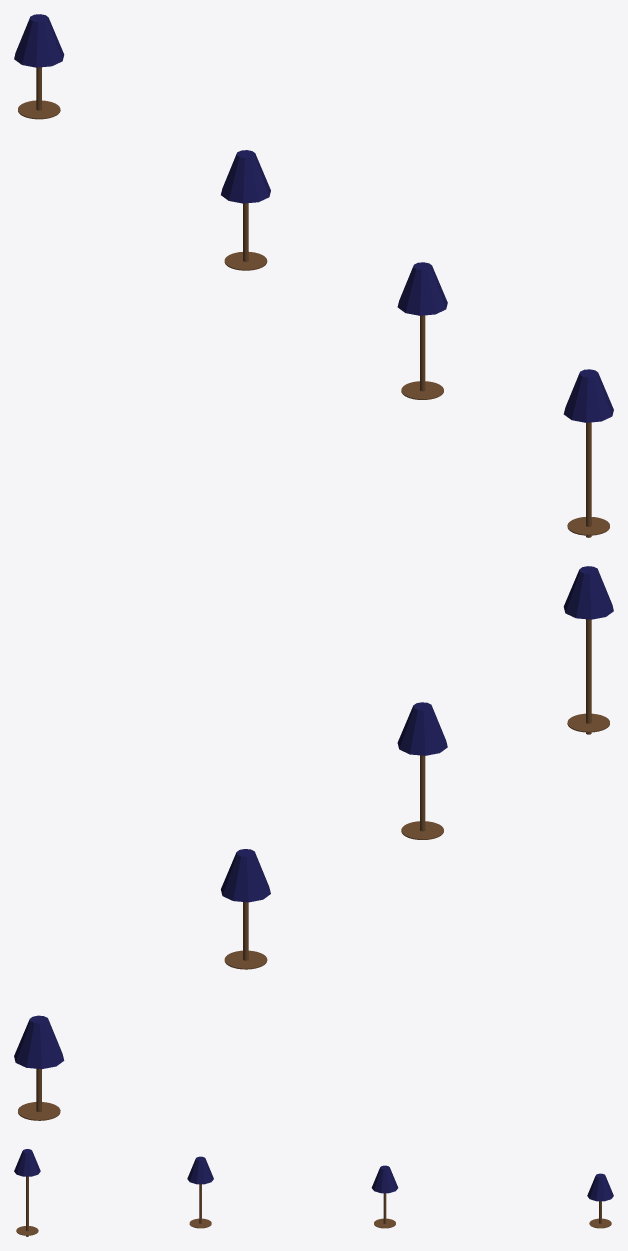
The model's file is Lamps.fbx.
3 renders of one model, top to bottom at view 1: azimuth 30°, elevation 25°; view 2: azimuth 150°, elevation 25°; view 3: azimuth 270°, elevation 25°, orthographic. The views are drawn at different scales.
Parts seen in each view (by area): view 1: Circle.003, Circle.002, Circle.001, Cylinder.007; view 2: Circle.003, Circle.002, Circle.001, Cylinder.007; view 3: Circle.003, Circle.001, Circle.002, Cylinder.007.
Part boxes in pixels (x1,y1,x2,y2): Circle.003: (563,369,613,537); Circle.002: (397,262,447,399); Circle.001: (221,150,270,270); Cylinder.007: (14,14,64,119); Circle.003: (563,566,613,734); Circle.002: (397,702,447,839); Circle.001: (221,849,270,969); Cylinder.007: (14,1015,64,1120); Circle.003: (14,1149,40,1236); Circle.001: (371,1165,398,1228); Circle.002: (187,1156,213,1228); Cylinder.007: (587,1173,613,1228).
Size of the model in its own units: 82.07 by 302 by 1929.
